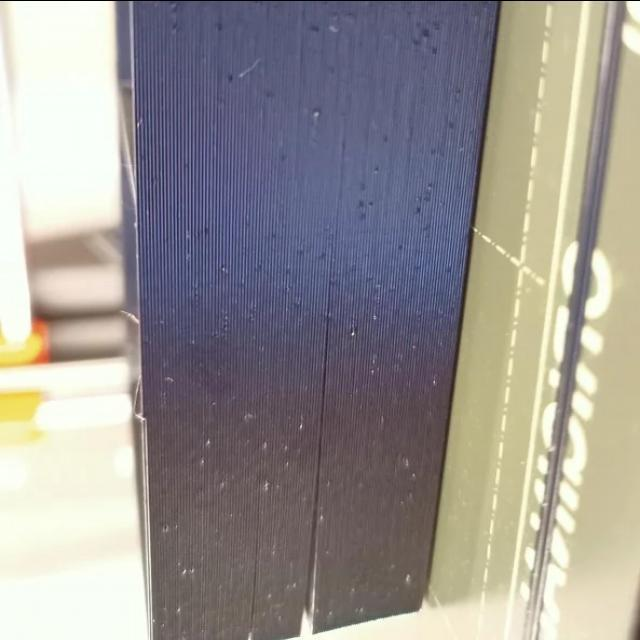Warping: (289, 520, 321, 636)
